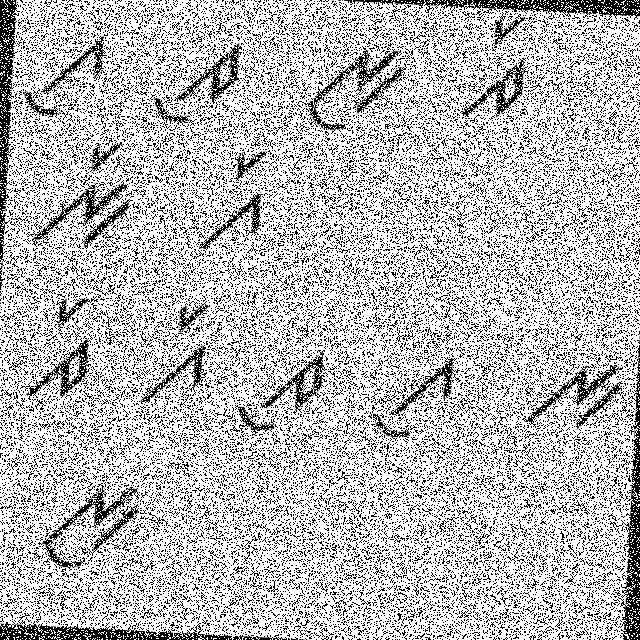gar: (126, 290, 220, 412), (198, 141, 287, 259)
gaw: (360, 342, 470, 448), (18, 22, 112, 127)
nga: (514, 348, 628, 442)
ngar: (28, 134, 141, 252)
ngaw: (29, 477, 144, 574), (298, 38, 408, 138)
tar: (443, 10, 545, 124), (21, 286, 105, 408)
taw: (229, 334, 329, 442), (148, 31, 246, 135)
